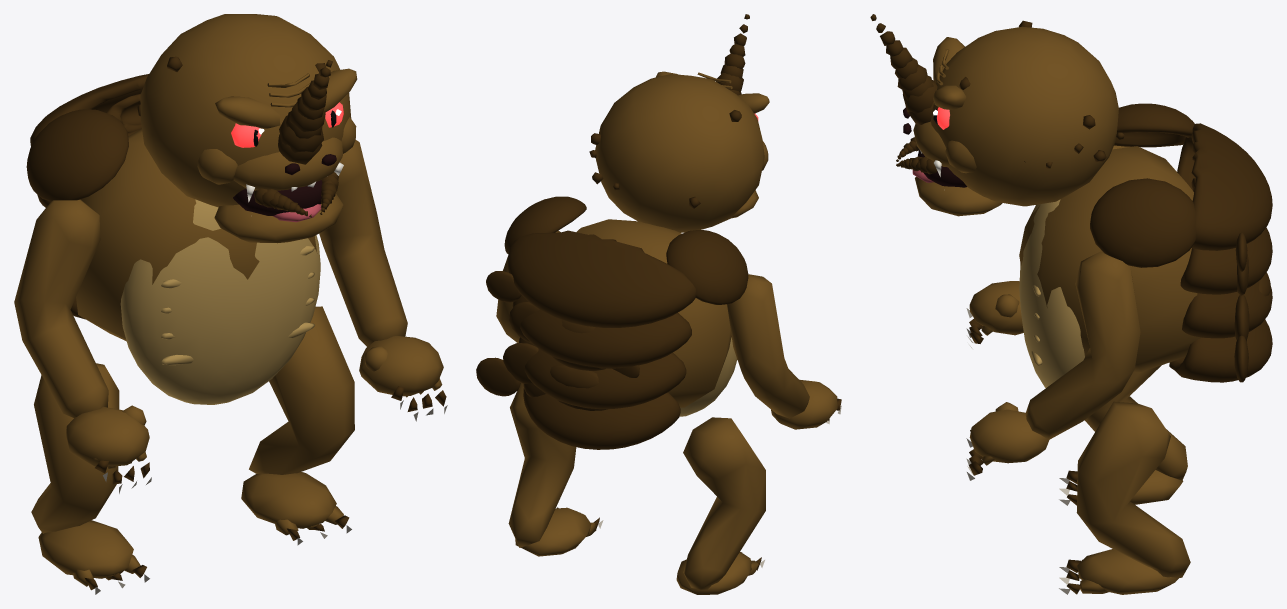
Rendered from panser_2.glb.
The picture shows the model from 3 angles, left to right: view 1: azimuth 30°, elevation 25°; view 2: azimuth 150°, elevation 25°; view 3: azimuth 270°, elevation 25°; orthographic projection. The views are drawn at different scales.
Parts seen in each view (by area): view 1: krop_net, hoved_net, armH_net, benV_net, armV_net, benH_net; view 2: krop_net, hoved_net, benH_net, armH_net, benV_net, armV_net; view 3: krop_net, hoved_net, benV_net, armV_net, benH_net, armH_net.
Part boxes in pixels (x1,y1,x2,y2): krop_net: (26,74,320,404); hoved_net: (137,14,357,243); armH_net: (14,199,151,493); benV_net: (241,306,354,545); armV_net: (319,140,447,421); benH_net: (31,363,149,594); krop_net: (476,196,748,449); hoved_net: (589,14,769,232); benH_net: (676,417,765,594); armH_net: (727,274,841,429); benV_net: (508,383,603,556); armV_net: (496,230,560,342); krop_net: (1019,103,1272,387); hoved_net: (870,14,1124,216); benV_net: (1059,401,1190,594); armV_net: (966,251,1140,480); benH_net: (1059,365,1187,505); armH_net: (966,145,1129,348).
Size of the model in its own units: 1.19 by 1.83 by 1.26.
